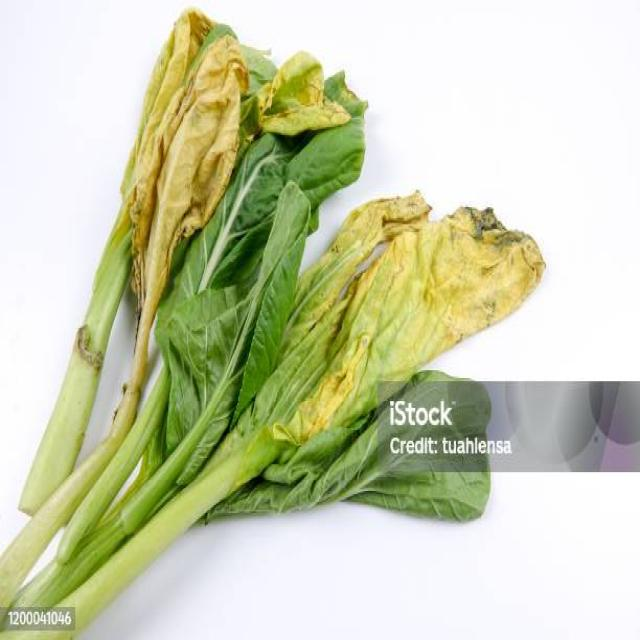rotten spinach: (290, 175, 561, 383), (116, 11, 250, 370)
